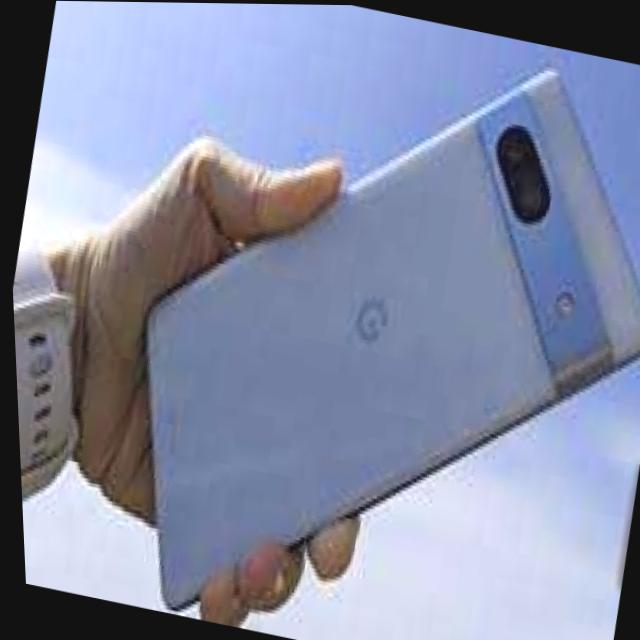Smartphone: (121, 52, 640, 612)
